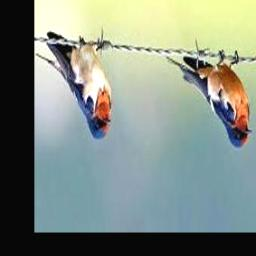Swallow: (166, 52, 254, 149), (36, 32, 113, 140)
